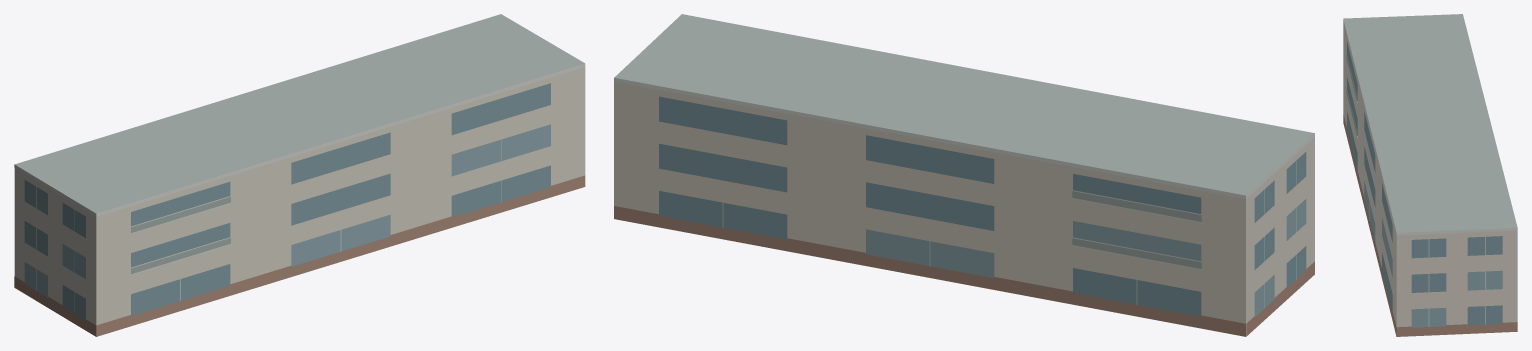
File: survey-upis-32627460.glb
The picture shows the model from 3 angles, left to right: view 1: azimuth 30°, elevation 25°; view 2: azimuth 150°, elevation 25°; view 3: azimuth 270°, elevation 25°; orthographic projection. The views are drawn at different scales.
Visible parts, largest first — view 1: survey-upis-32627460.tmp; view 2: survey-upis-32627460.tmp; view 3: survey-upis-32627460.tmp.
Part boxes in pixels (x1=…): survey-upis-32627460.tmp: x1=14, y1=14, x2=585, y2=336; survey-upis-32627460.tmp: x1=614, y1=14, x2=1314, y2=336; survey-upis-32627460.tmp: x1=1343, y1=14, x2=1517, y2=336.
Bounding box in the file's own units: 41.29 × 9.15 × 13.91.
